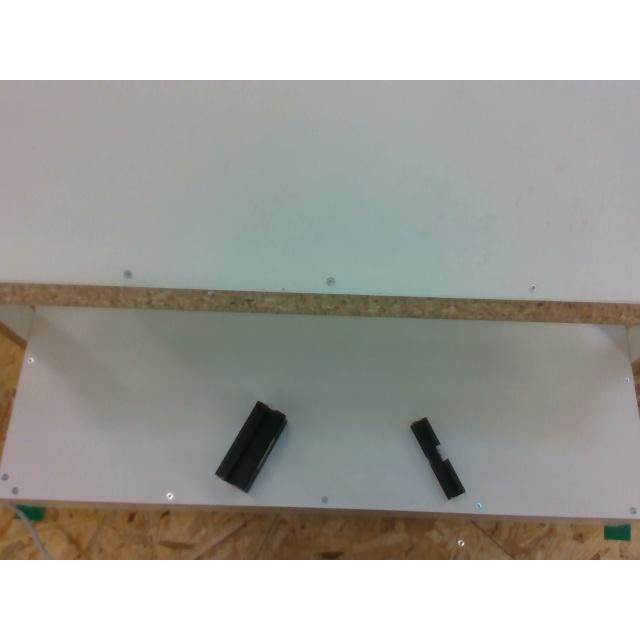F20_20_B: (410, 417, 466, 499)
S40_40_B: (214, 401, 286, 492)
